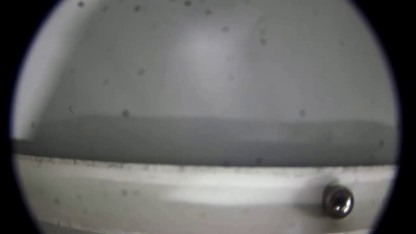gangzhu: (321, 184, 355, 219)
